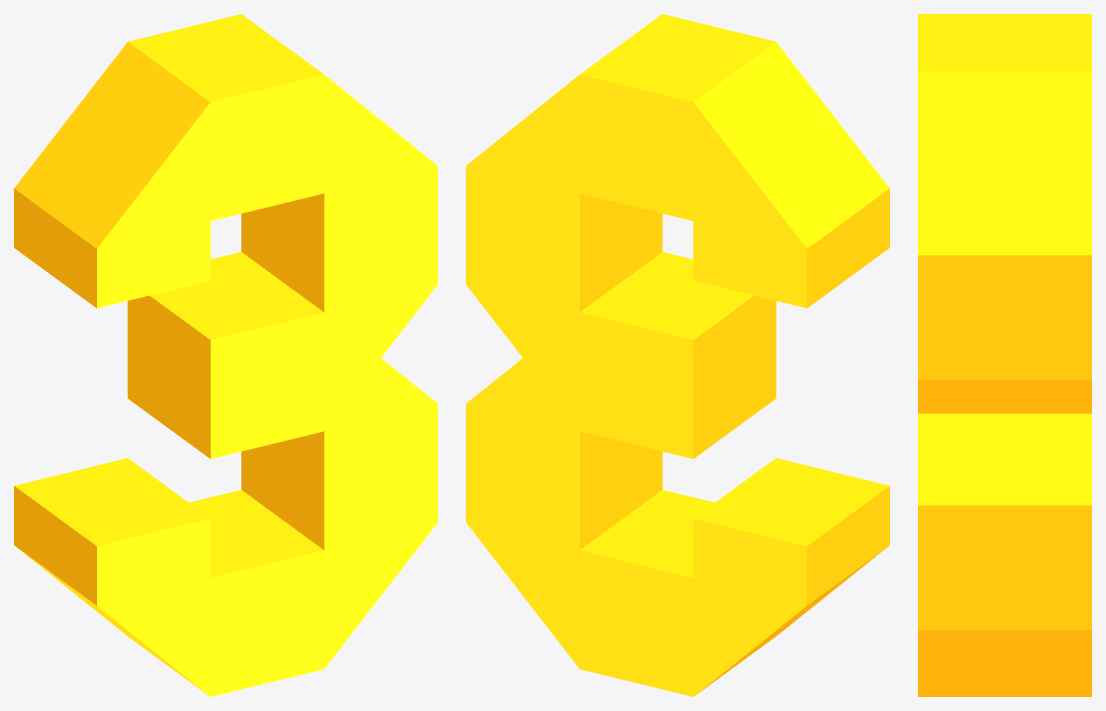
Rendered from 3efced7a-bac3-4f4a-a1fc-c59fa5104468.glb.
3 views of the same model, side by side, from view 1: azimuth 30°, elevation 25°; view 2: azimuth 150°, elevation 25°; view 3: azimuth 270°, elevation 25° (orthographic). The views are drawn at different scales.
Visible parts, largest first — view 1: 3_DeltaBlock_Yellow; view 2: 3_DeltaBlock_Yellow; view 3: 3_DeltaBlock_Yellow.
Part boxes in pixels (x1,y1,x2,y2): 3_DeltaBlock_Yellow: (14,14,437,696); 3_DeltaBlock_Yellow: (466,14,889,696); 3_DeltaBlock_Yellow: (918,14,1091,696).
Size of what is drawn, in the model's own units: 0.1071 by 0.1786 by 0.045.
Materials: 2 (2 with a texture image).
